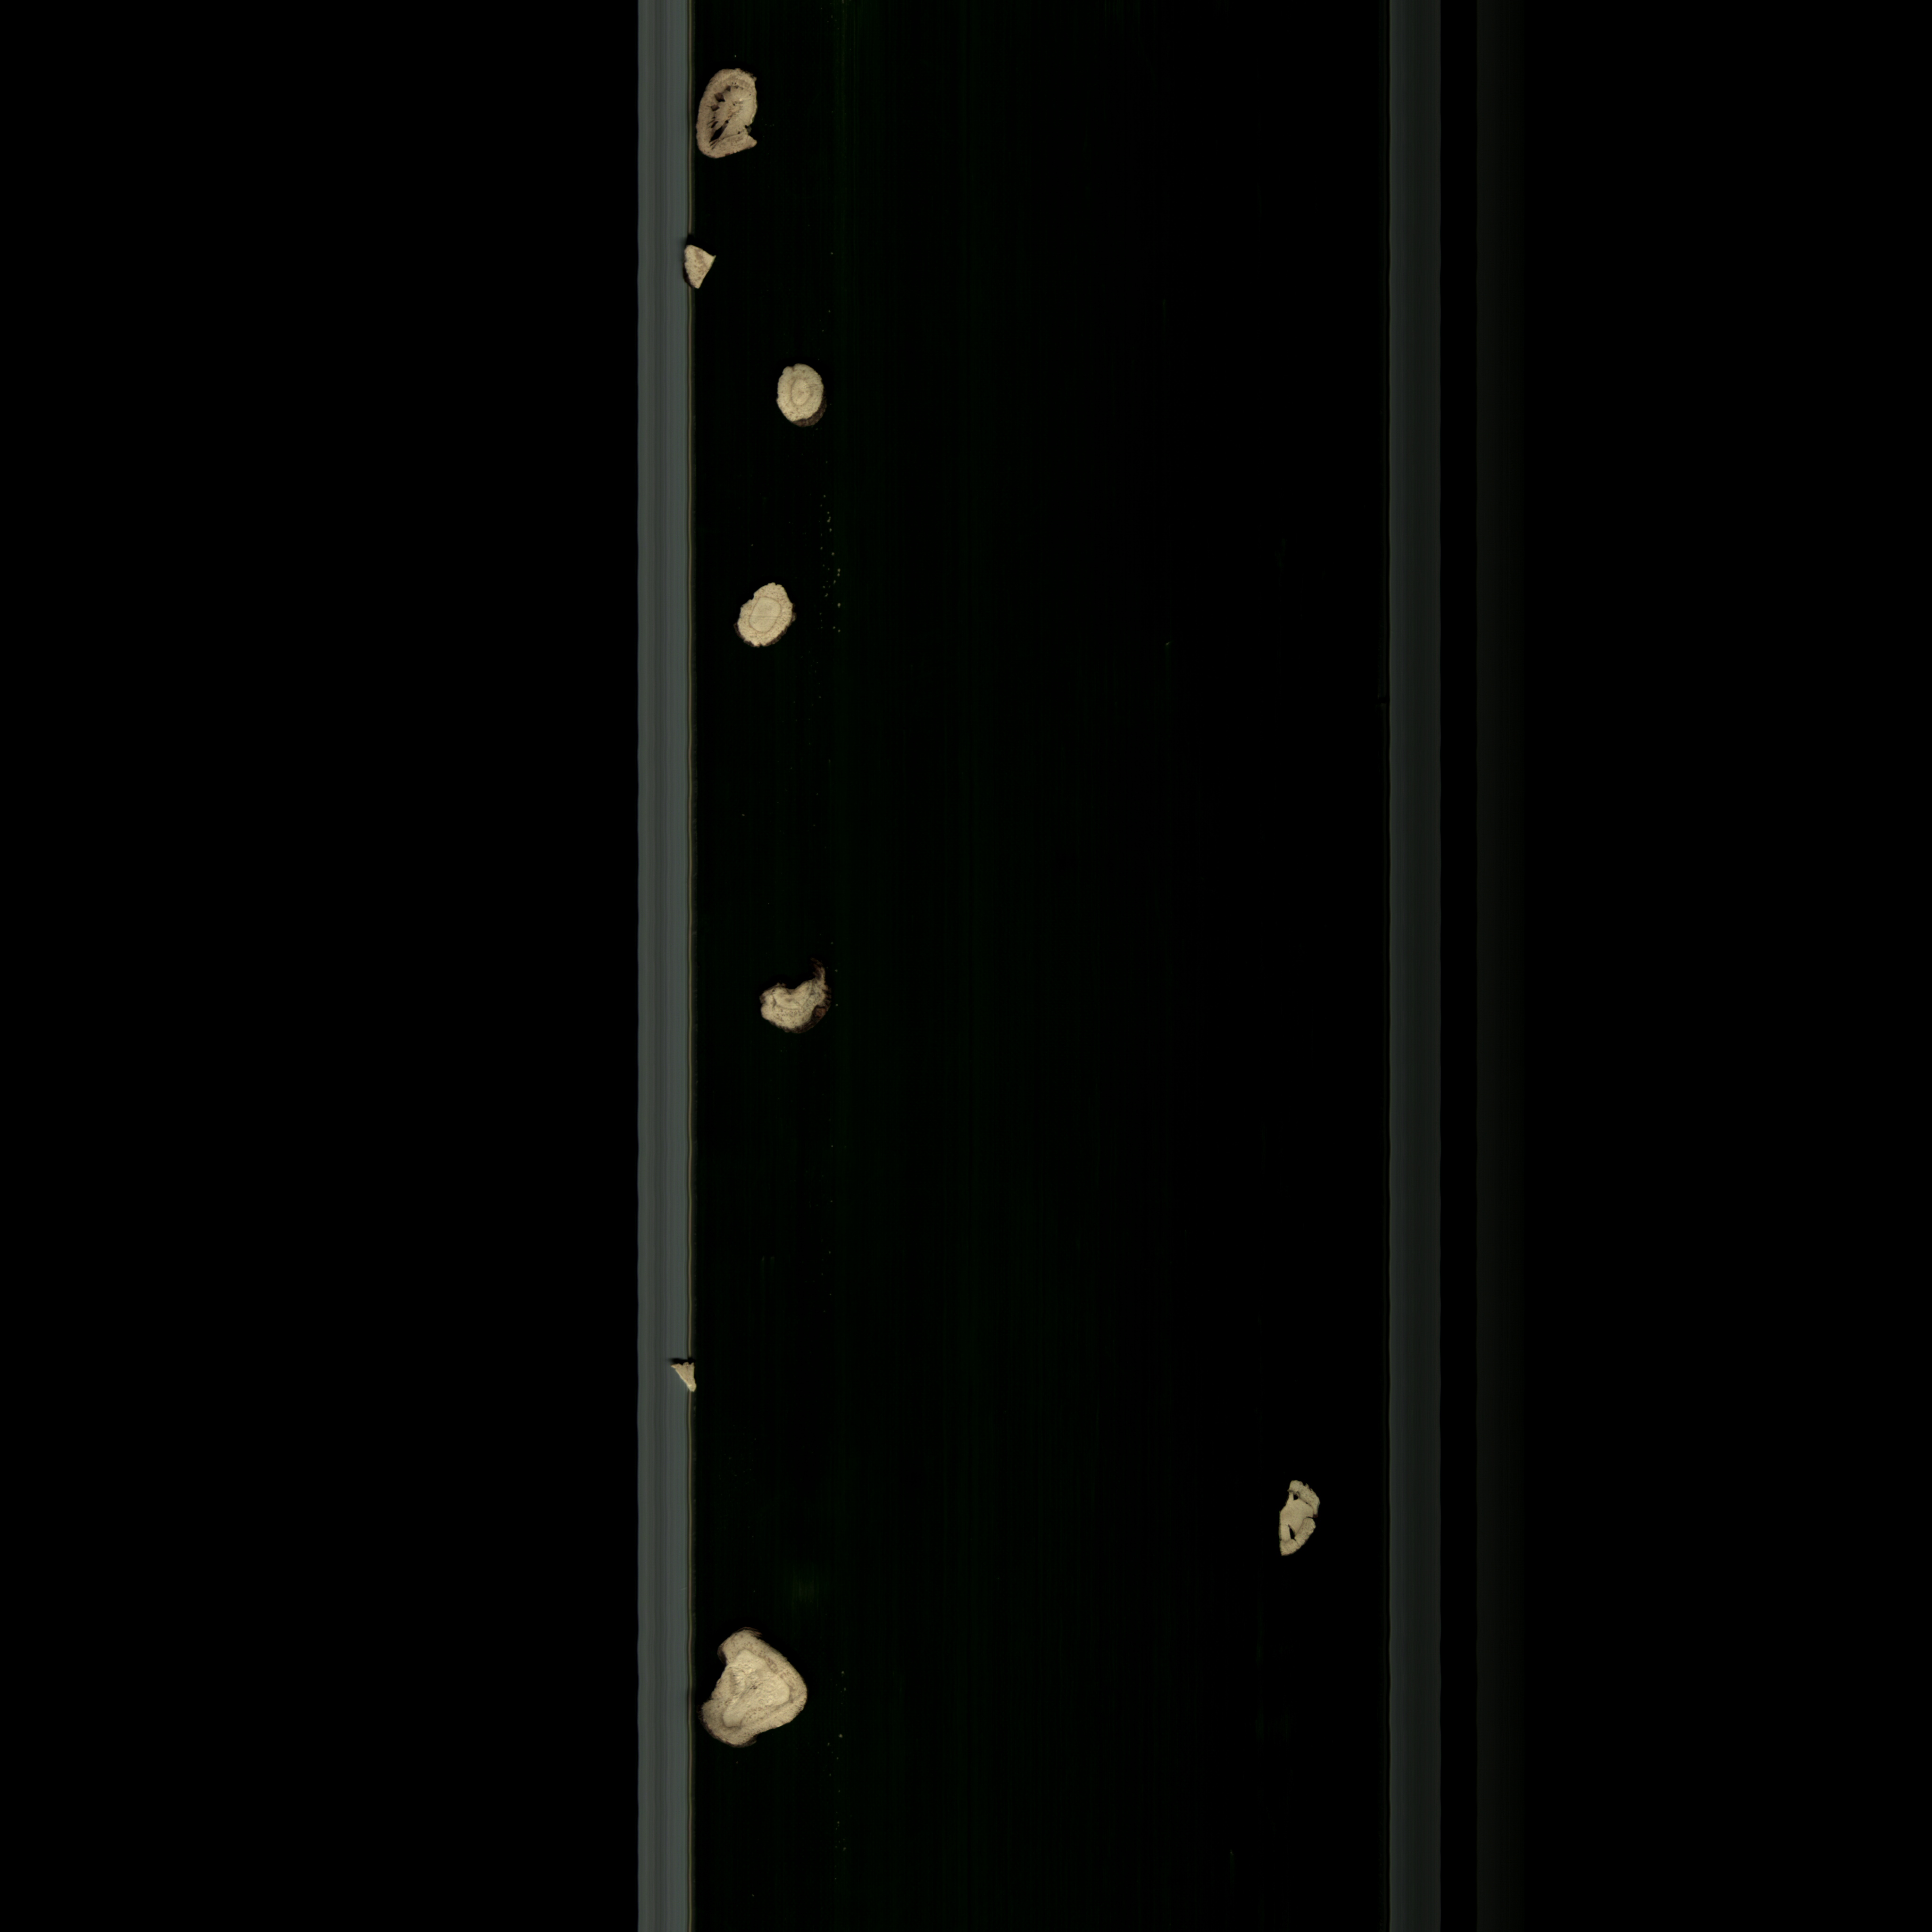debris: (755, 957, 853, 1042)
distortion: (697, 1619, 819, 1767)
dreg: (679, 232, 734, 303), (658, 1352, 718, 1408)
hole: (1269, 1467, 1336, 1582)
moldy: (686, 51, 782, 172)
